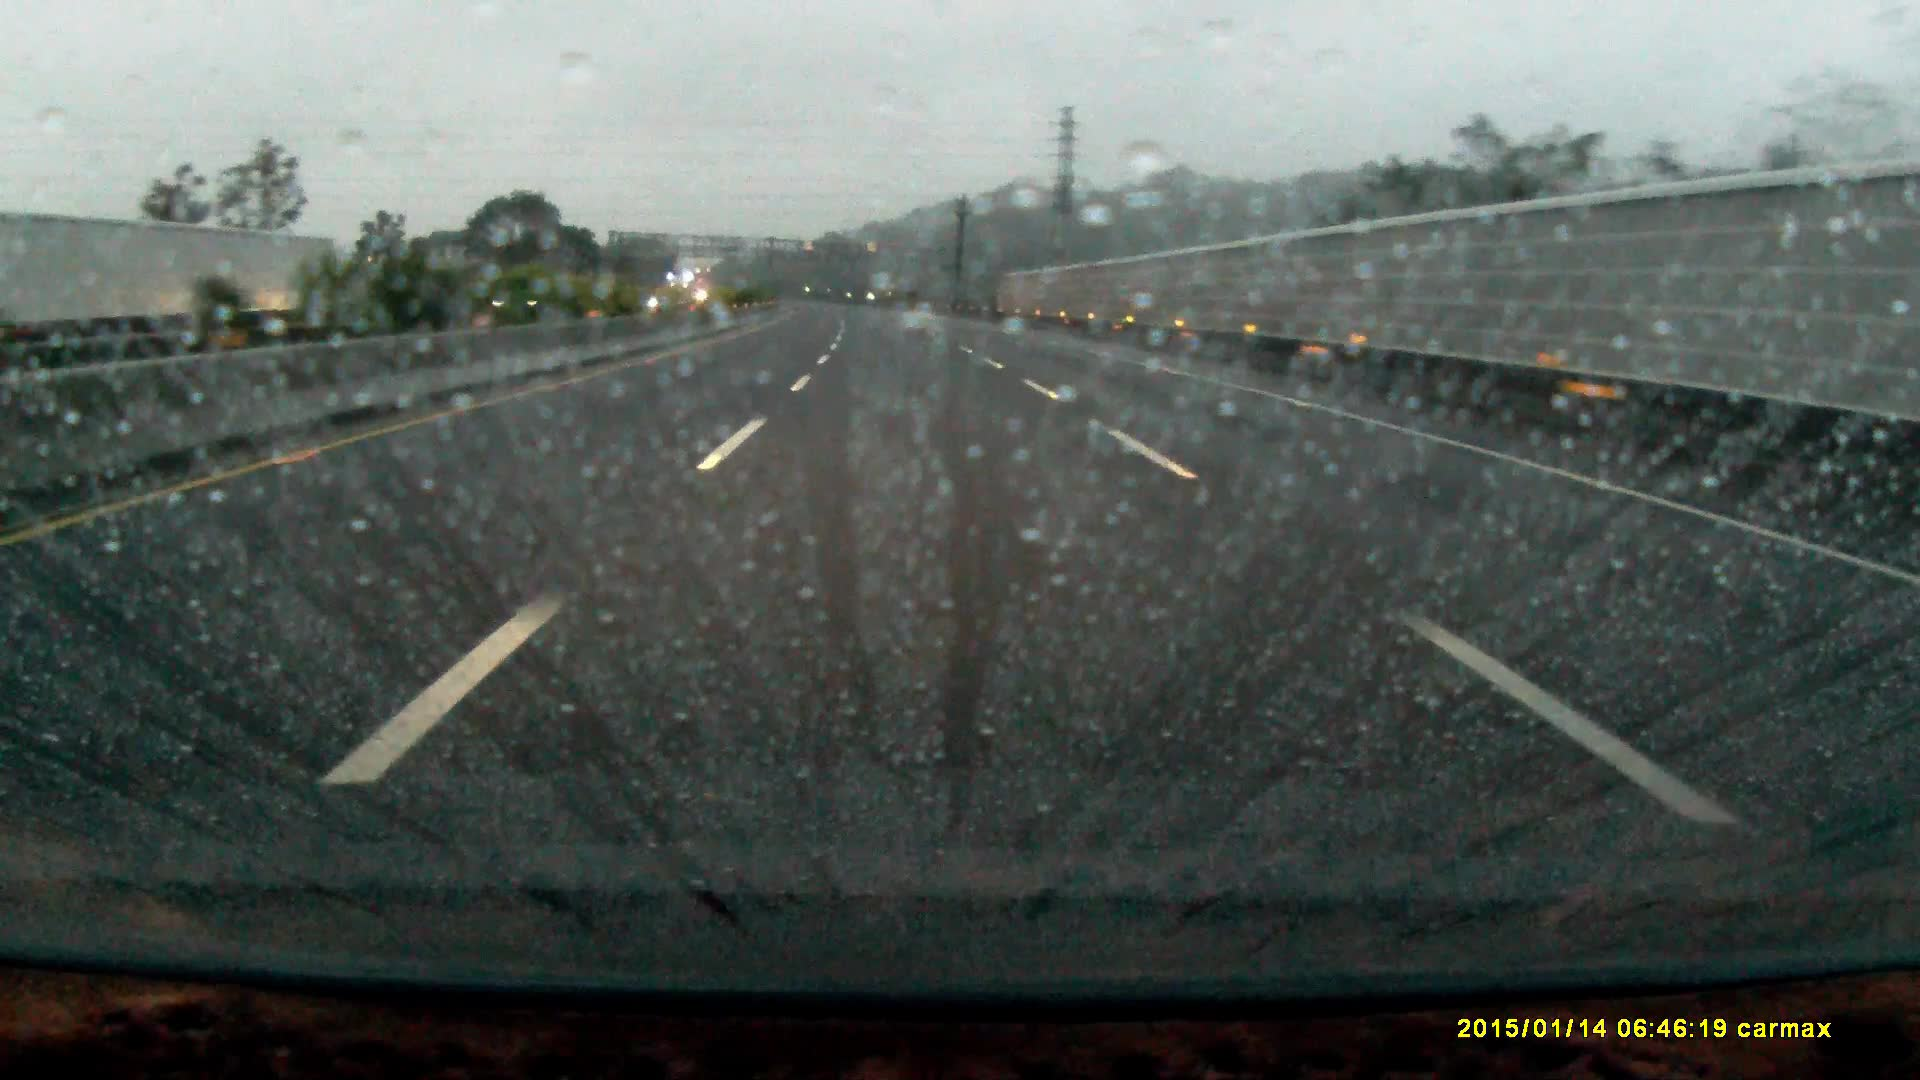vehicle: (663, 270, 699, 302)
